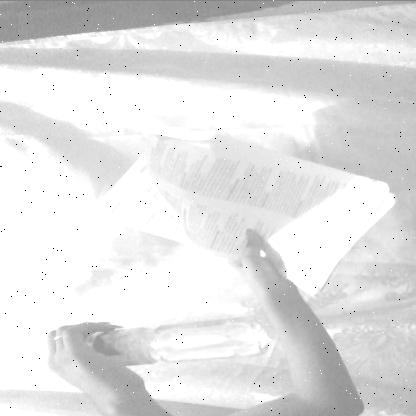Plastic Bottle: (20, 286, 280, 377)
